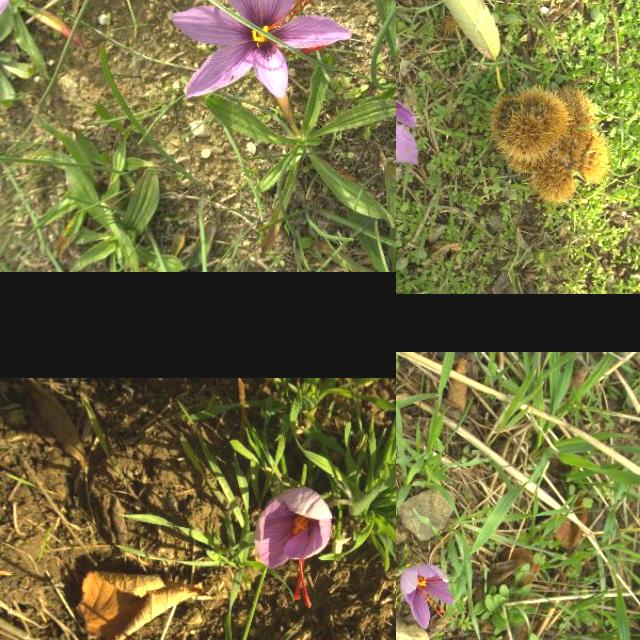flower: (169, 0, 352, 98), (253, 490, 333, 608), (400, 565, 456, 629), (396, 89, 421, 164)
